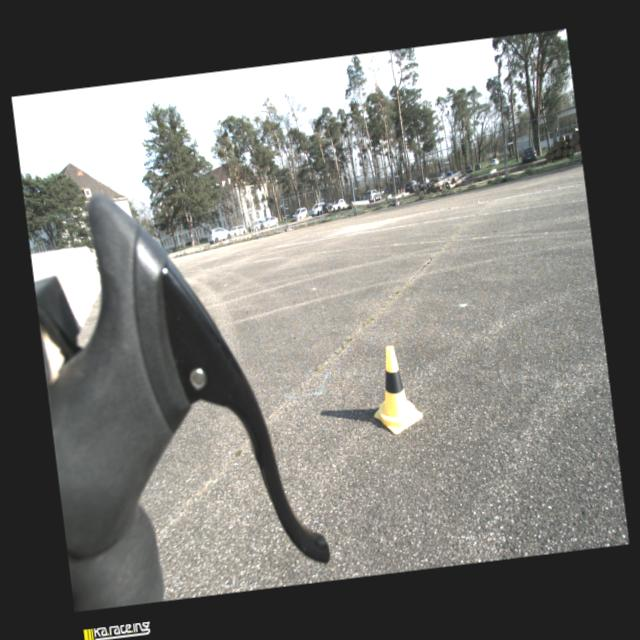yellow_cone: (366, 342, 424, 437)
